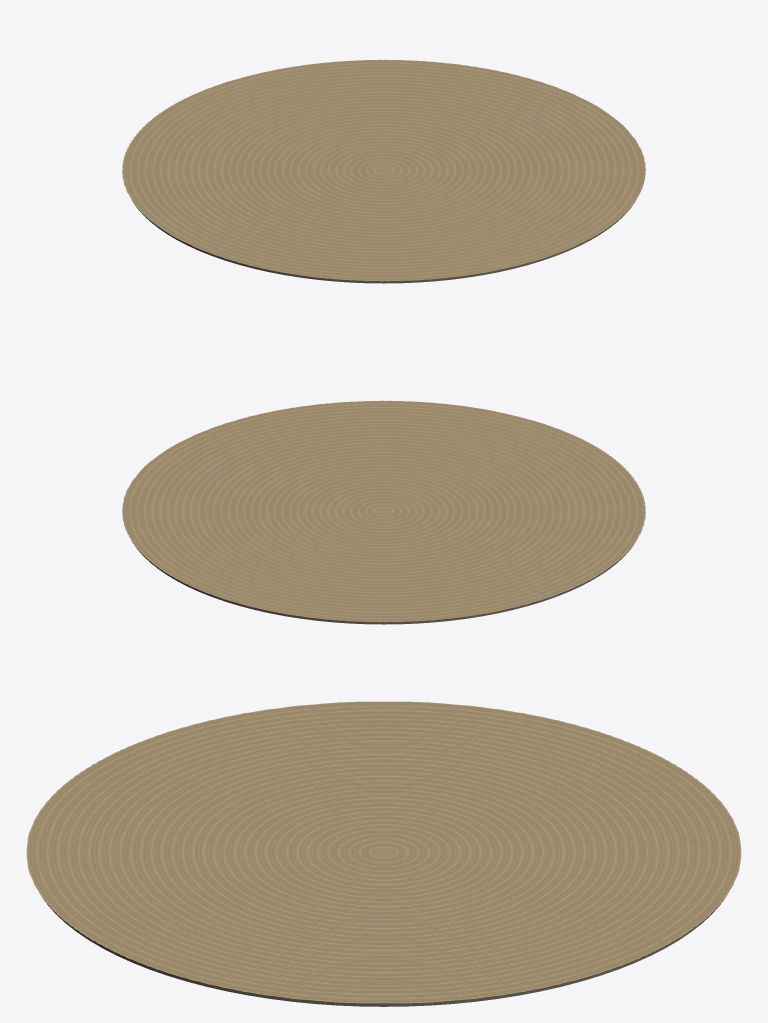
File: officeRoundJute.glb
The picture shows the model from 3 angles, top to bottom: view 1: azimuth 30°, elevation 25°; view 2: azimuth 150°, elevation 25°; view 3: azimuth 270°, elevation 25°; orthographic projection. The views are drawn at different scales.
Bounding box in the file's own units: 2.2 × 0.014 × 2.2.
2 materials, 1 textured.
